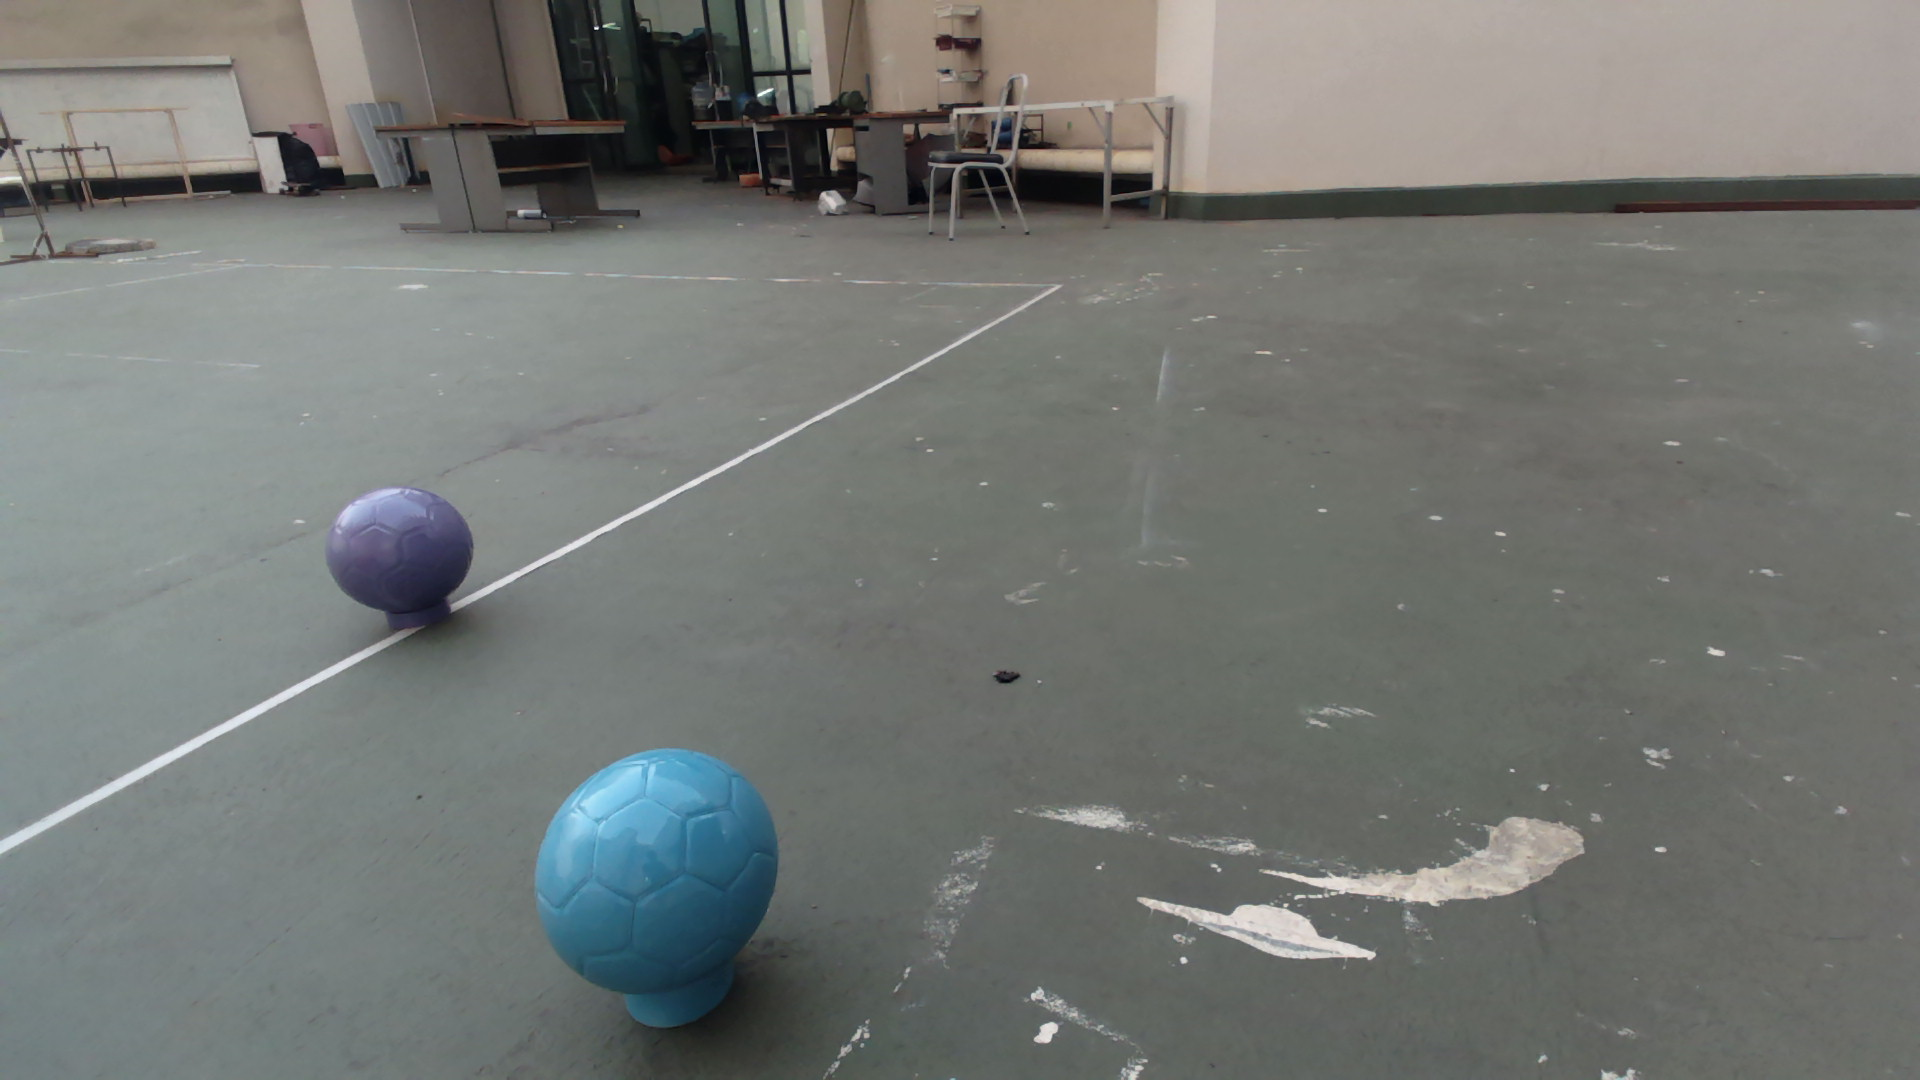Blue ball: (533, 744, 781, 998)
Purple ball: (324, 485, 475, 615)
